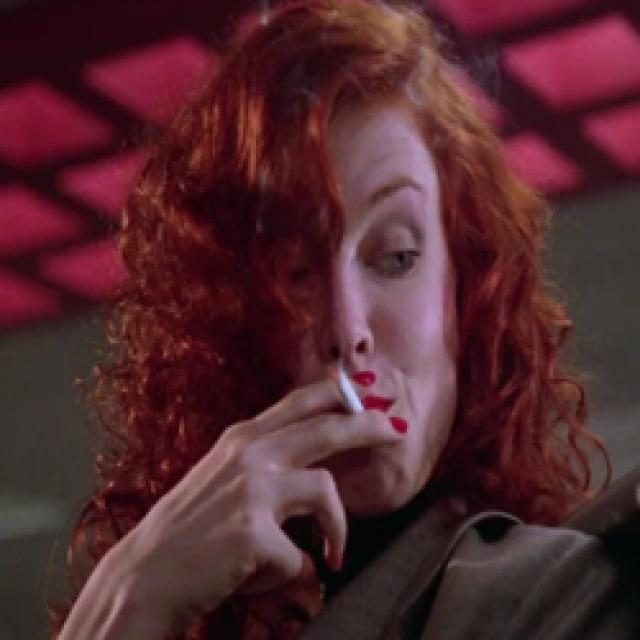Smooking: (328, 356, 383, 417)
